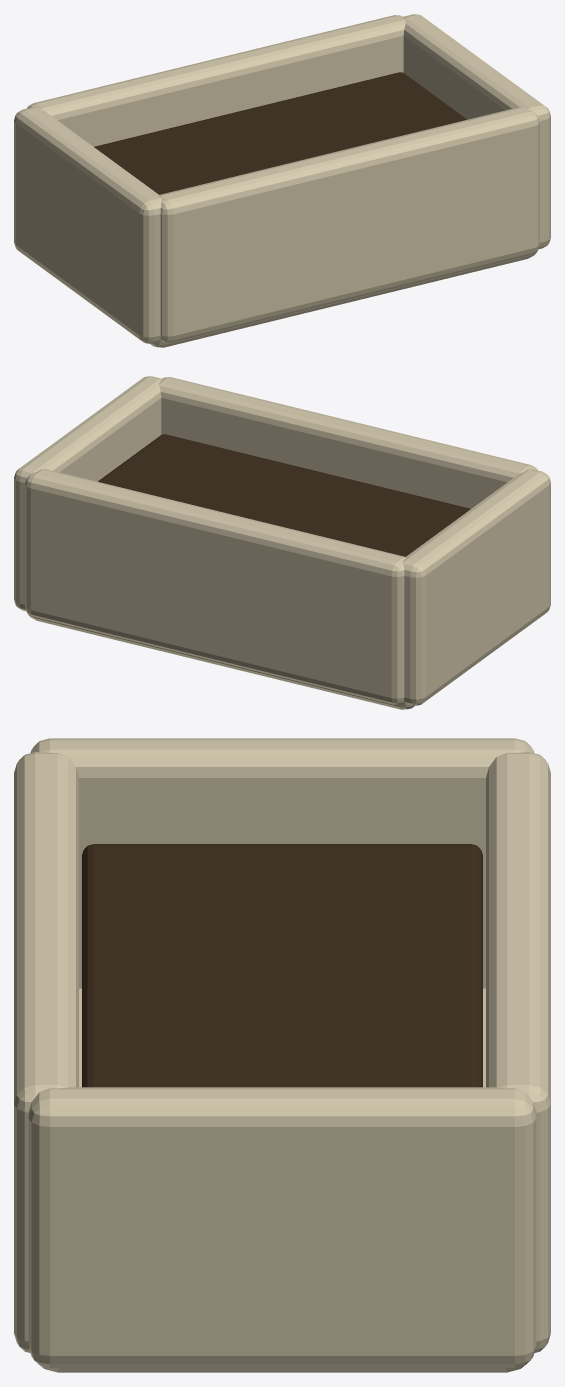
3 views of the same model, one above another, from view 1: azimuth 30°, elevation 25°; view 2: azimuth 150°, elevation 25°; view 3: azimuth 270°, elevation 25° (orthographic). The views are drawn at different scales.
Visible parts, largest first — view 1: Rim wall, Side, Rim wall.001, Soil, Side.001, Base; view 2: Rim wall.001, Side, Rim wall, Soil, Side.001, Base; view 3: Side.001, Soil, Side, Rim wall, Rim wall.001, Base.
Part boxes in pixels (bbox=[...]): Rim wall: bbox=[159, 107, 539, 342]; Side: bbox=[14, 107, 161, 343]; Rim wall.001: bbox=[27, 15, 405, 146]; Soil: bbox=[94, 72, 466, 194]; Side.001: bbox=[403, 14, 550, 248]; Base: bbox=[150, 250, 537, 347]; Rim wall.001: bbox=[25, 469, 405, 704]; Side: bbox=[403, 469, 550, 705]; Rim wall: bbox=[159, 377, 537, 508]; Soil: bbox=[98, 434, 470, 556]; Side.001: bbox=[14, 376, 161, 610]; Base: bbox=[27, 612, 414, 709]; Side.001: bbox=[28, 1087, 536, 1367]; Soil: bbox=[82, 844, 482, 1087]; Side: bbox=[30, 738, 534, 988]; Rim wall: bbox=[14, 752, 78, 1352]; Rim wall.001: bbox=[486, 752, 550, 1352]; Base: bbox=[41, 988, 523, 1372].
Size of the model in its own units: 0.755 by 0.265 by 0.455.
